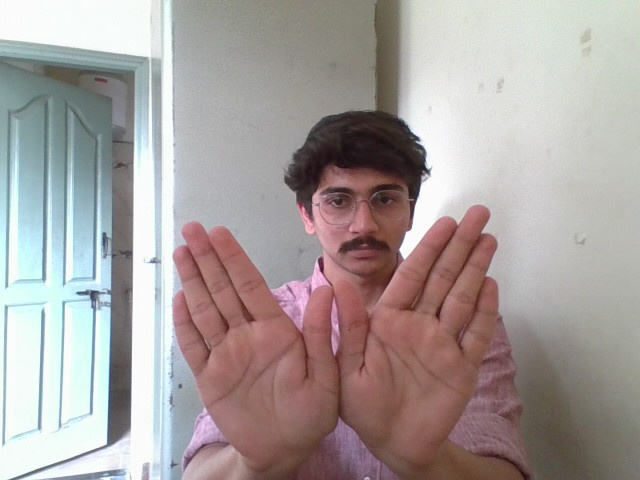hug: (158, 202, 556, 453)
